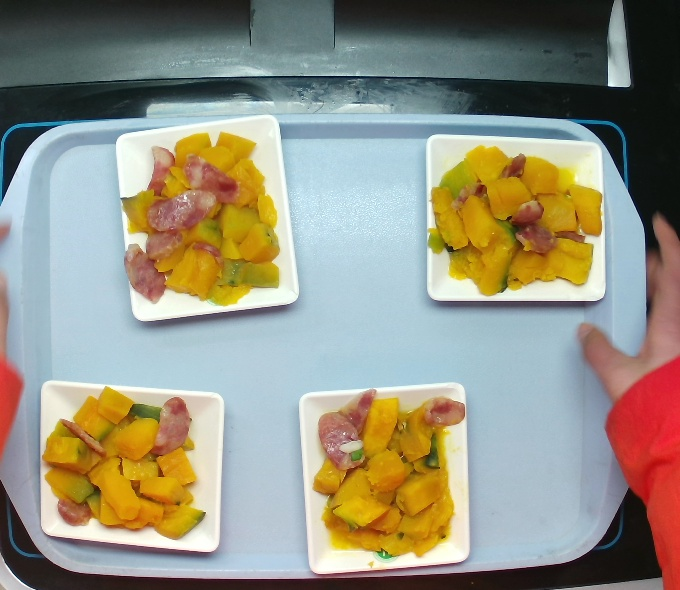wcq-NanGuaChaoXiangChang: (118, 128, 285, 307), (306, 392, 469, 567), (41, 381, 207, 551), (428, 153, 602, 291)
